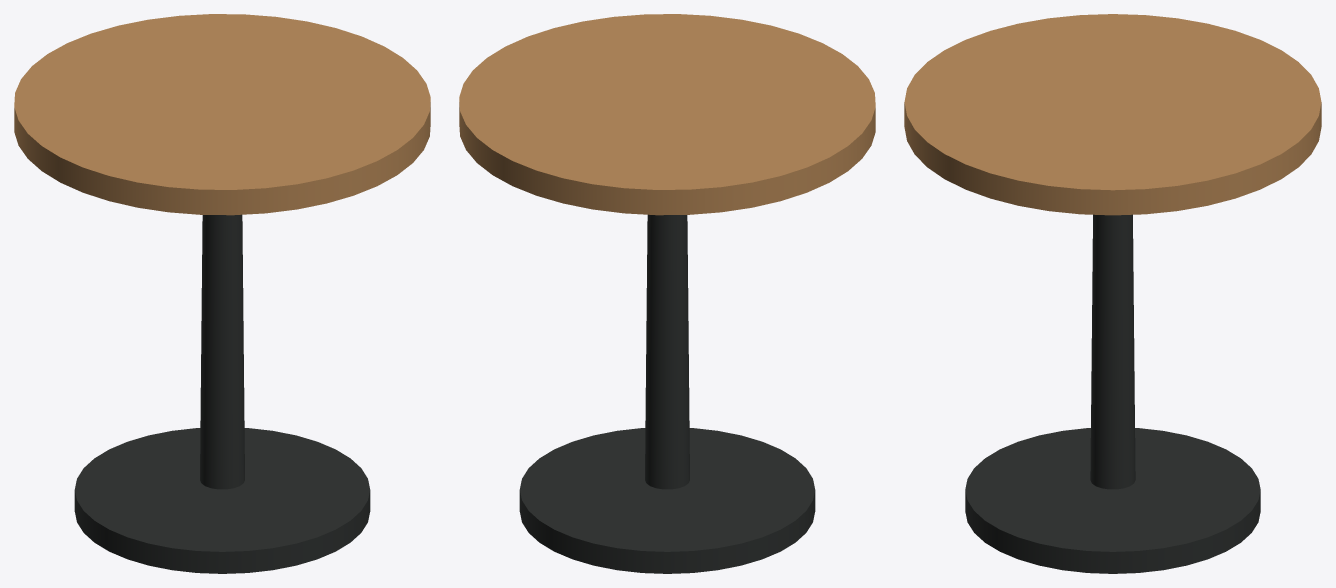
The model's file is side-table.glb.
3 views of the same model, side by side, from view 1: azimuth 30°, elevation 25°; view 2: azimuth 150°, elevation 25°; view 3: azimuth 270°, elevation 25° (orthographic).
Visible parts, largest first — view 1: top, frame_base, frame_stem; view 2: top, frame_base, frame_stem; view 3: top, frame_base, frame_stem.
Part boxes in pixels (x1,y1,x2,y2): top: [14, 14, 430, 215]; frame_base: [74, 428, 370, 573]; frame_stem: [200, 214, 244, 489]; top: [459, 14, 875, 215]; frame_base: [519, 428, 815, 573]; frame_stem: [645, 214, 689, 489]; top: [904, 14, 1321, 215]; frame_base: [965, 428, 1260, 573]; frame_stem: [1090, 214, 1135, 489].
Bounding box in the file's own units: 0.48 × 0.52 × 0.48.
